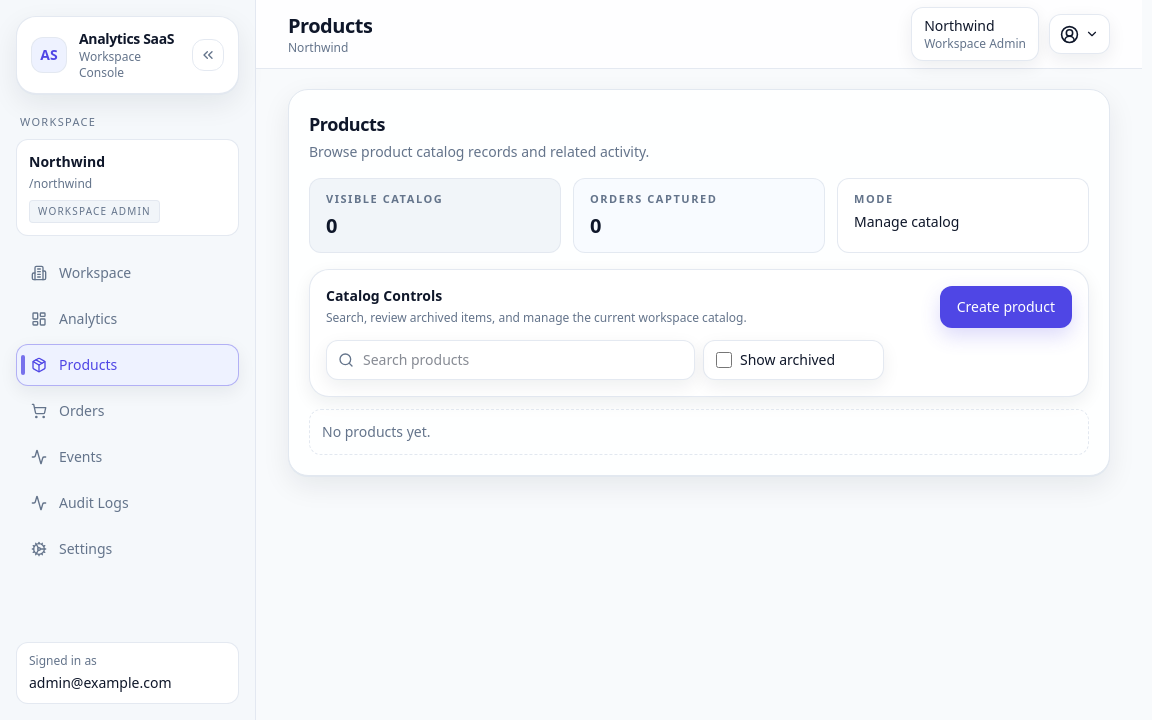
App browser-level integration flows › creates a product through the real app flow with workspace-scoped requests
This screenshot has width=1152, height=720.
Expected: the text "No products yet." is shown, [322,422,431,440]
Click the button "Create product" at (1006, 306), box [940,286,1072,328]
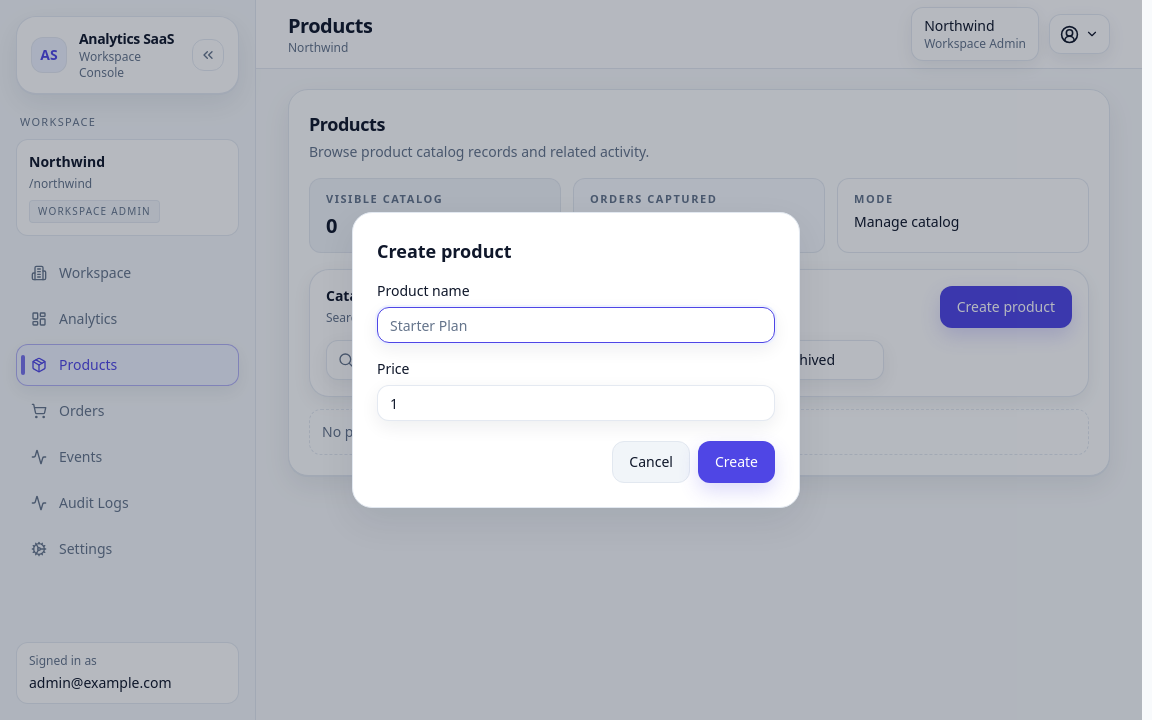
Type "Growth" into the field labelled "Product name" at (576, 325), box [377,307,775,343]
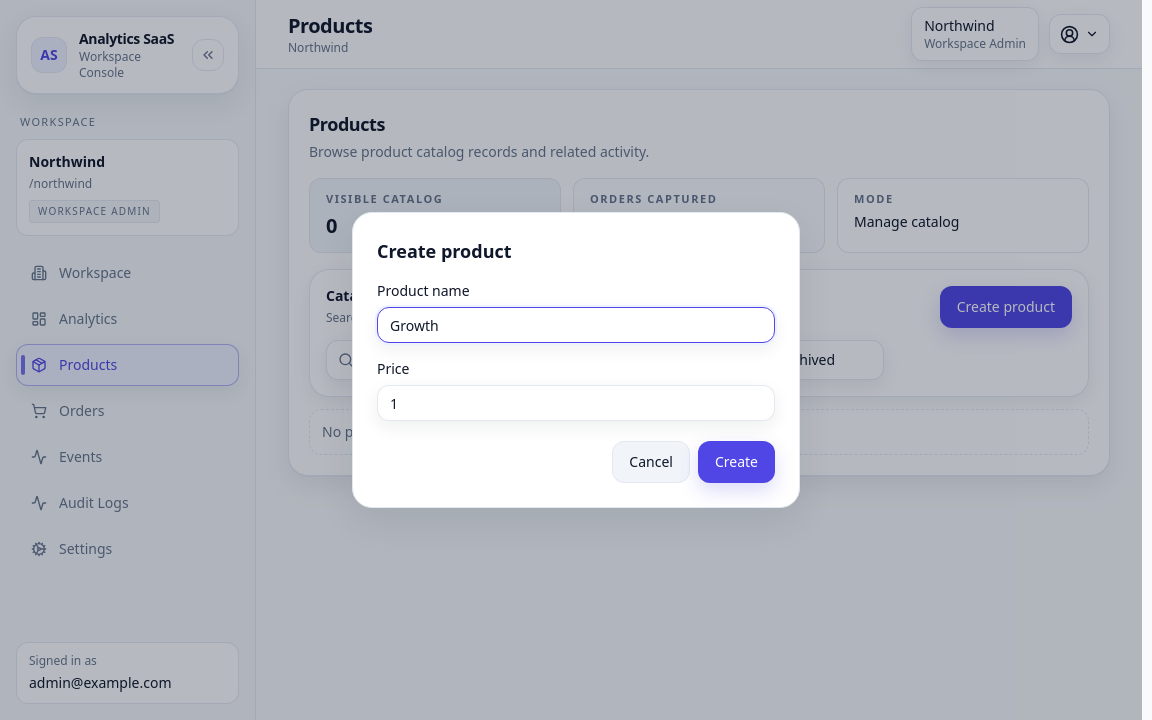
Replace the text in the number field labelled "Price" with "99" at (576, 403), box [377,385,775,421]
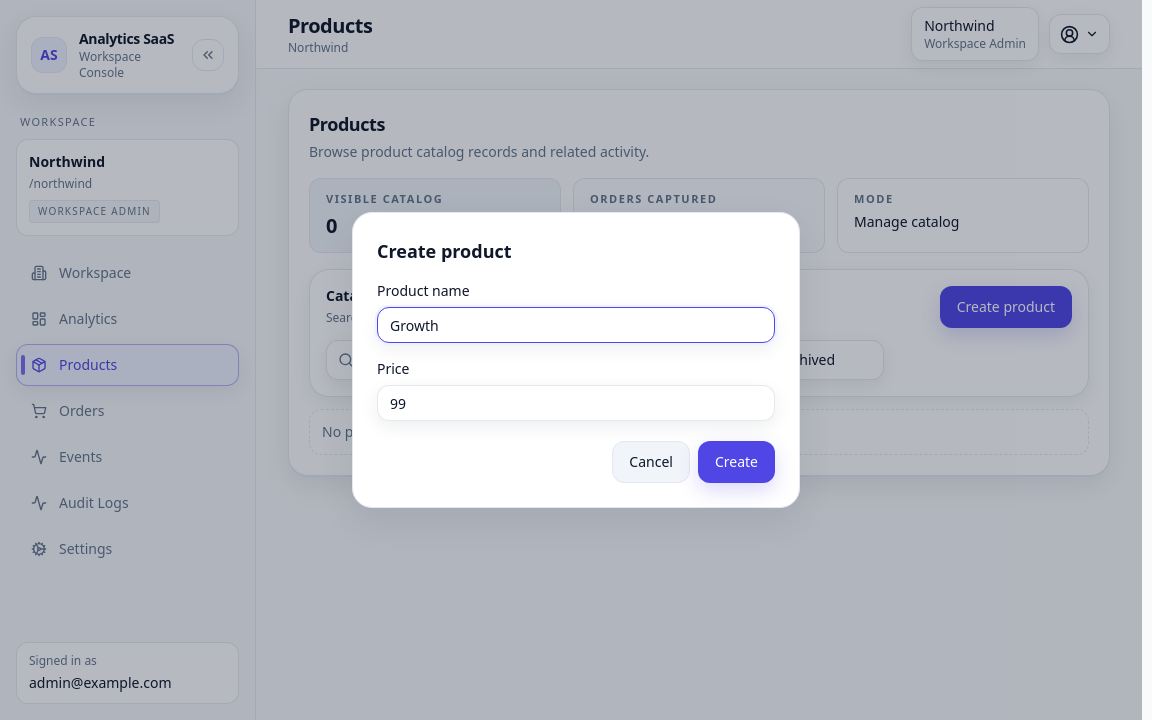
Click the button "Create" at (736, 462), box [698,441,775,483]
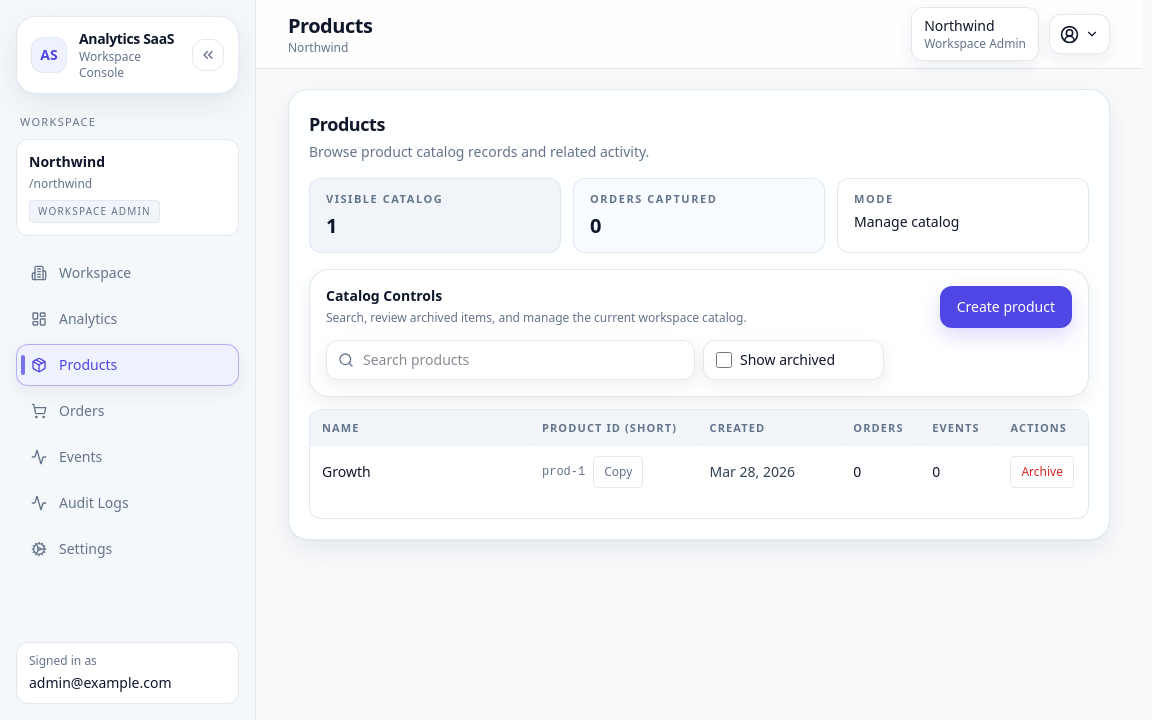
Now the dialog is gone
